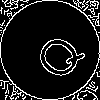Q: (25, 25, 88, 86)
